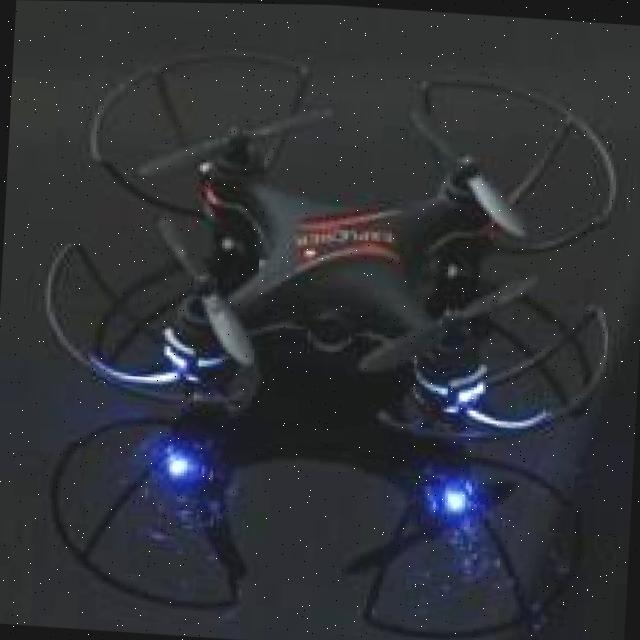drone: (13, 35, 640, 461)
